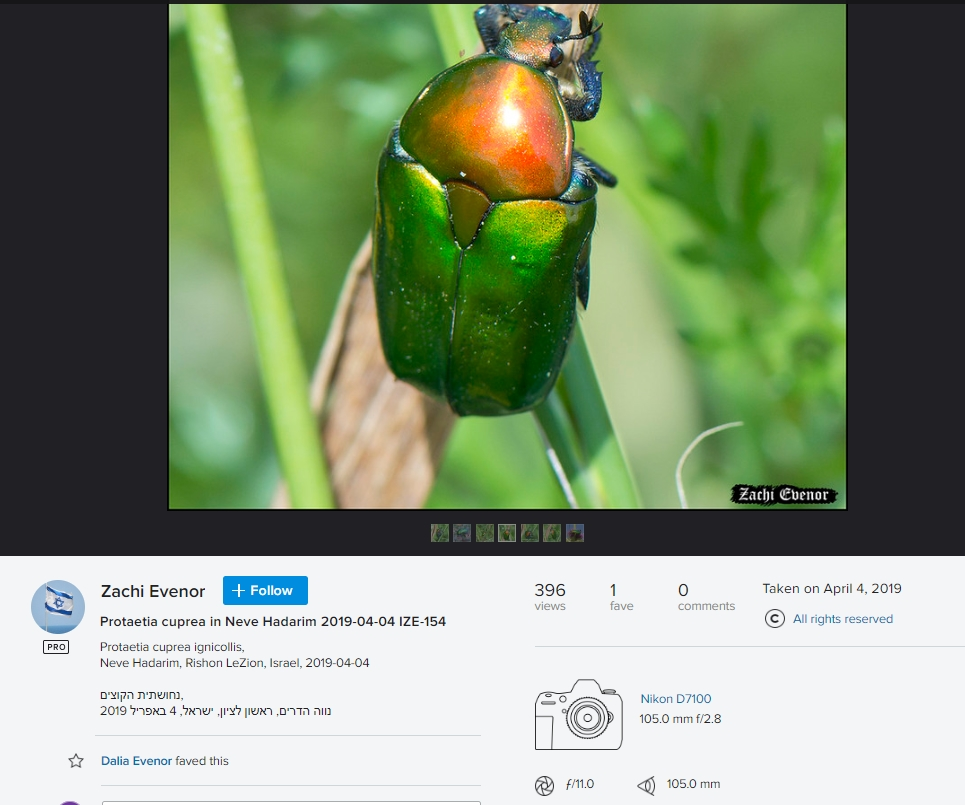Protaetia_cuprea_ignicollis: (364, 1, 617, 427)
